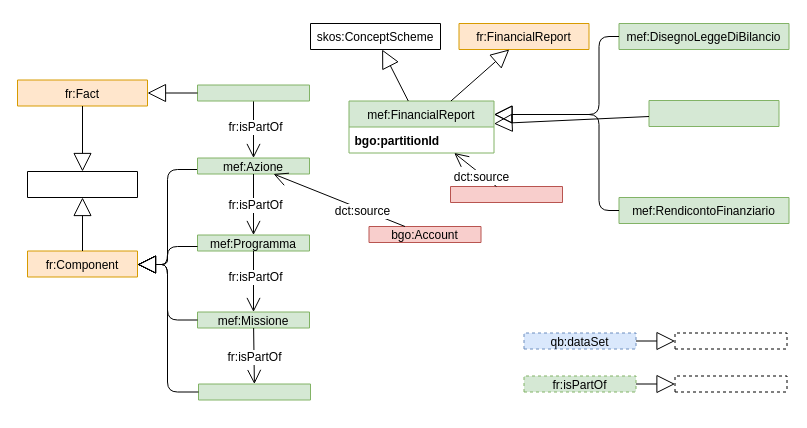
Some shapes in this 807 by 428 pixel diagram are drawn without their labels. Each missing label, with the centre of its shape:
"bgo:Domain" belongs at point 506,194.
"mef:Capitolo" belongs at point 253,92.
"mef:LeggeDiBilancio" belongs at point 713,113.
"mef:Ministero" belongs at point 254,391.
"skos:broader" belongs at point 730,383.
"skos:Concept" belongs at point 82,184.
"skos:inScheme" belongs at point 730,340.
